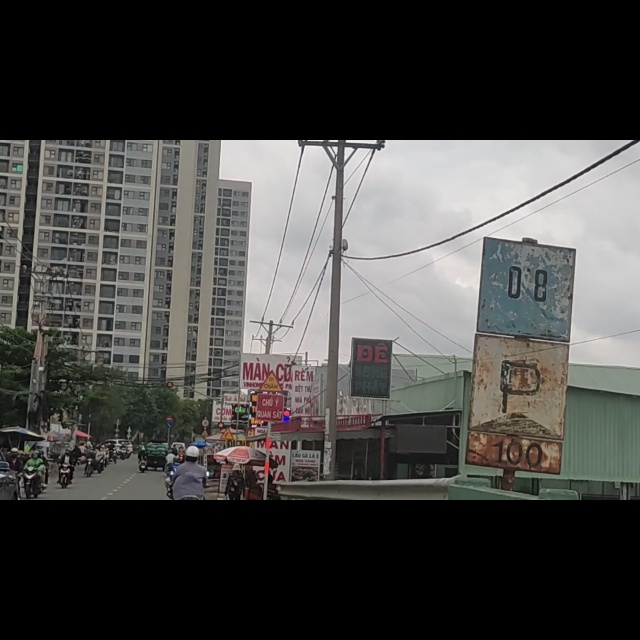bien_cam: (259, 409, 284, 450)
